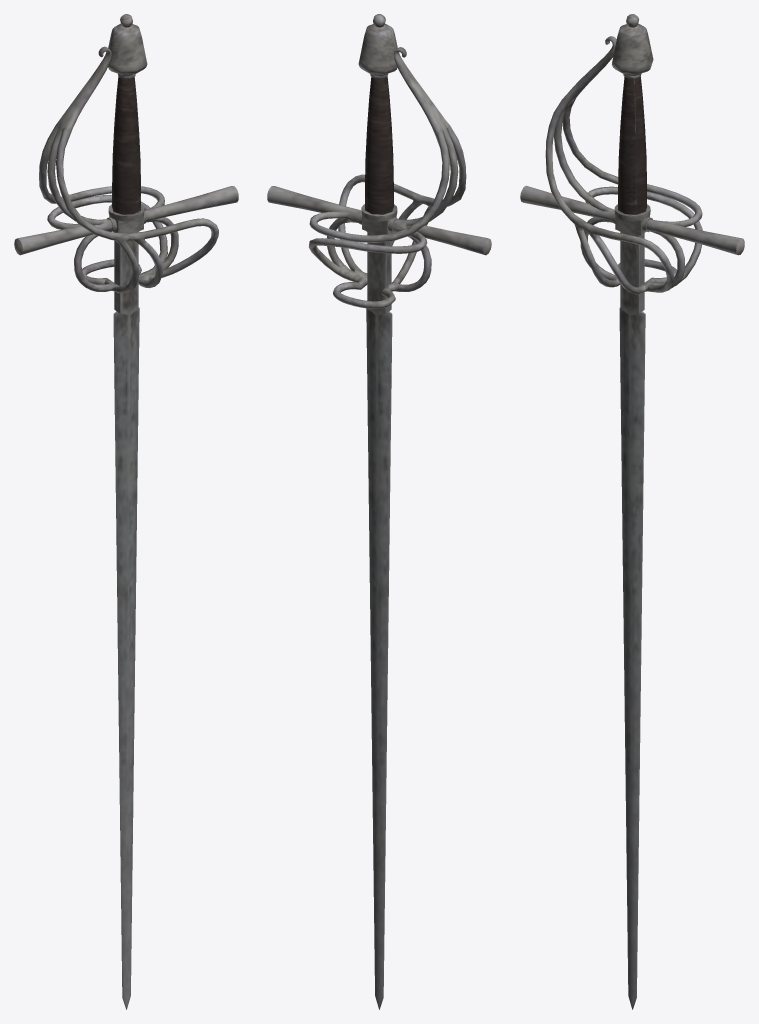
The model's file is weapon-wp_a_0250.glb.
The picture shows the model from 3 angles, left to right: view 1: azimuth 30°, elevation 25°; view 2: azimuth 150°, elevation 25°; view 3: azimuth 330°, elevation 25°; orthographic projection.
Visible parts, largest first — view 1: wp_a_0250_mesh; view 2: wp_a_0250_mesh; view 3: wp_a_0250_mesh.
Part boxes in pixels (bbox=[...]): wp_a_0250_mesh: bbox=[14, 14, 238, 1009]; wp_a_0250_mesh: bbox=[267, 14, 491, 1009]; wp_a_0250_mesh: bbox=[520, 14, 744, 1009].
Size of the model in its own units: 0.2494 by 1.07 by 0.1261.
1 material, 1 textured.
